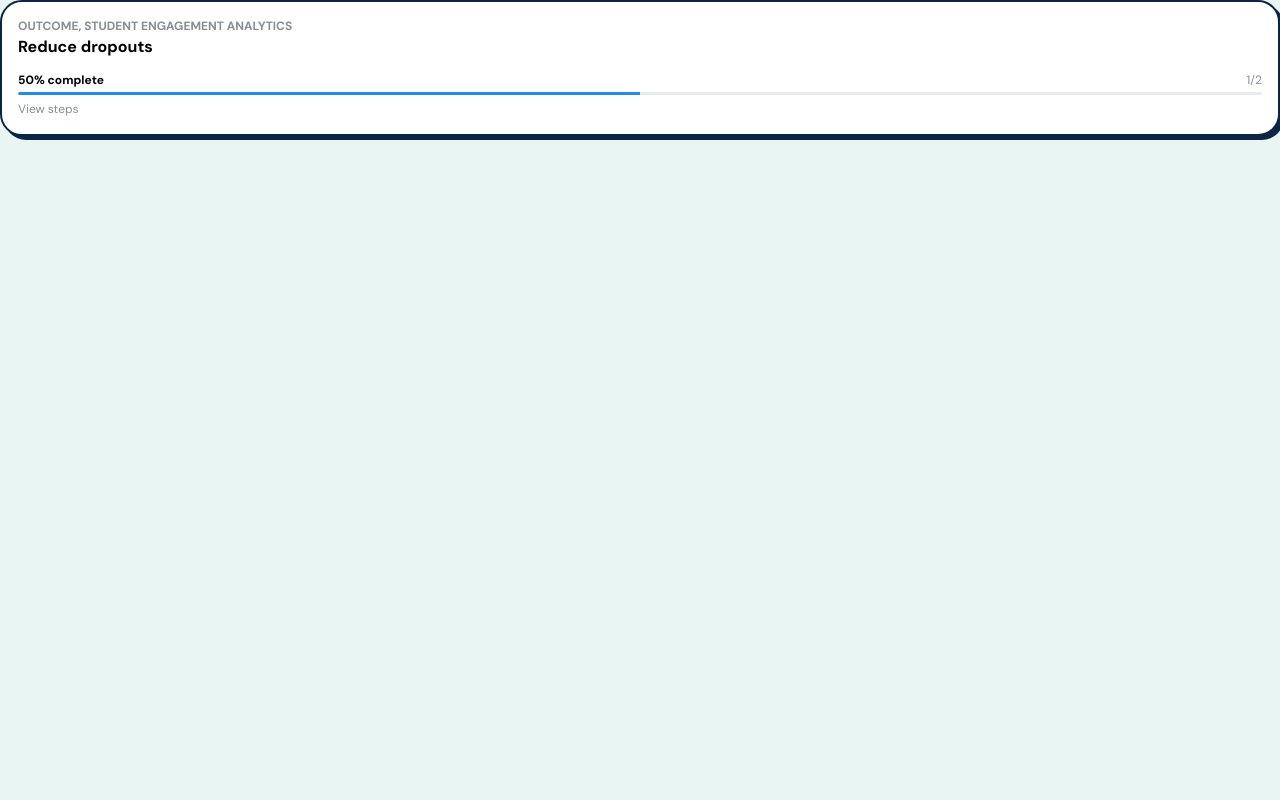
inline solution ticks in the card view › shows each solution as a checkbox, with the first one ticked
Click the button with aria-label "View steps for Reduce dropouts": click(51, 26) [18,18,1262,118]
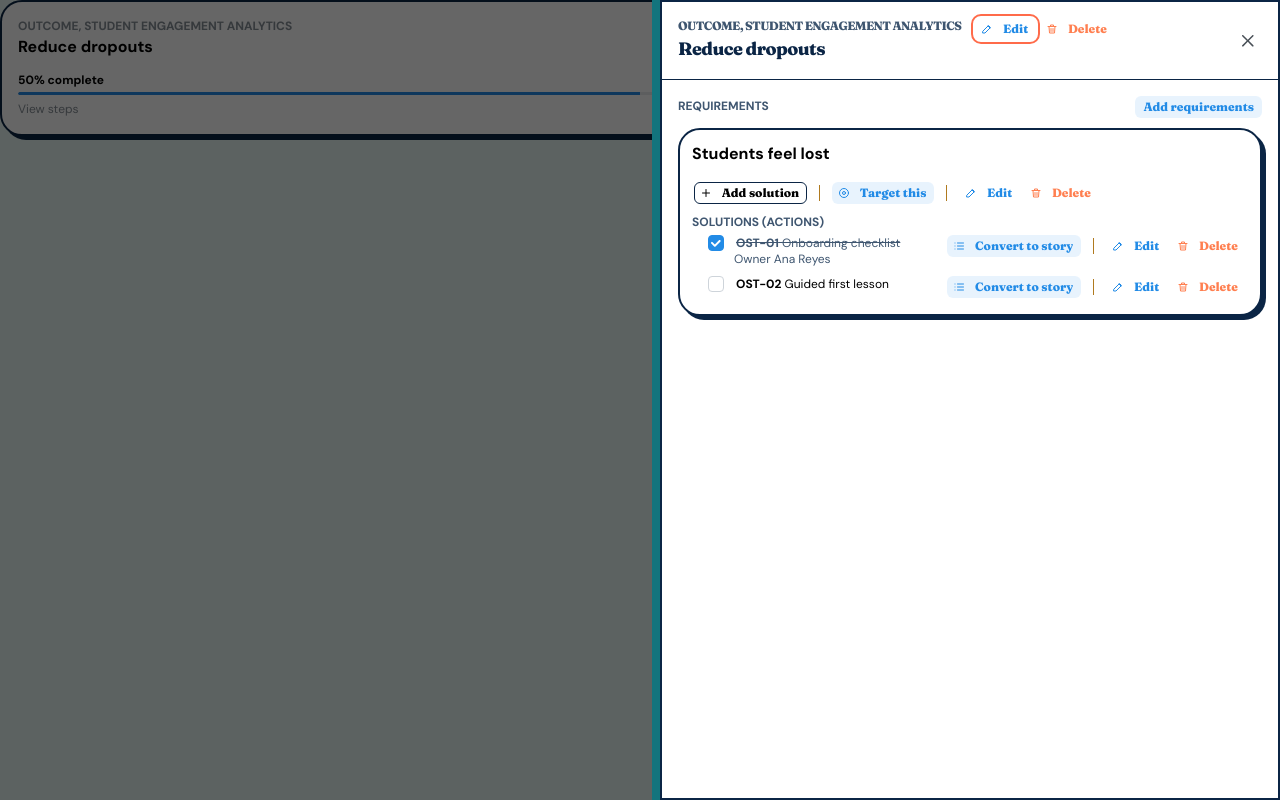
Now the 1st element showing "Edit Delete" is shown, box [973,18,1117,40]
